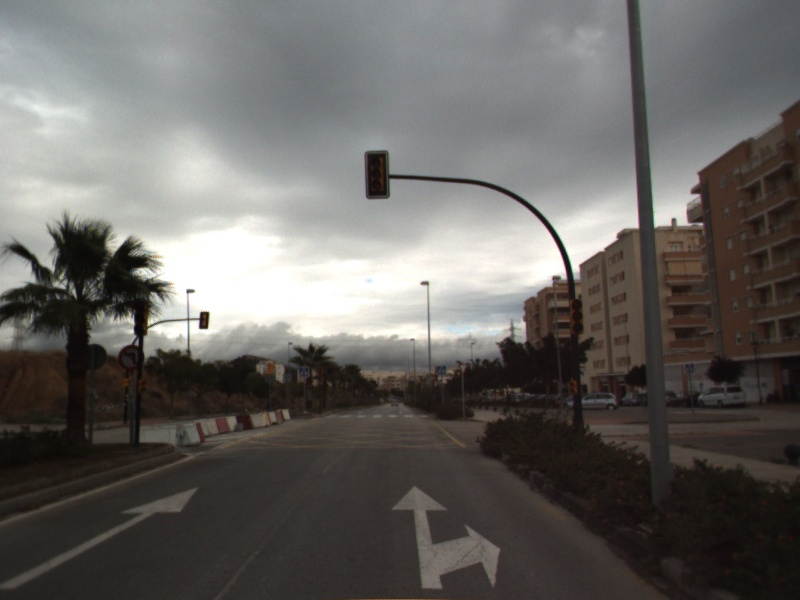STRAIGHT: (1, 485, 200, 592)
STRAIGHT_RIGHT: (389, 483, 502, 591)
